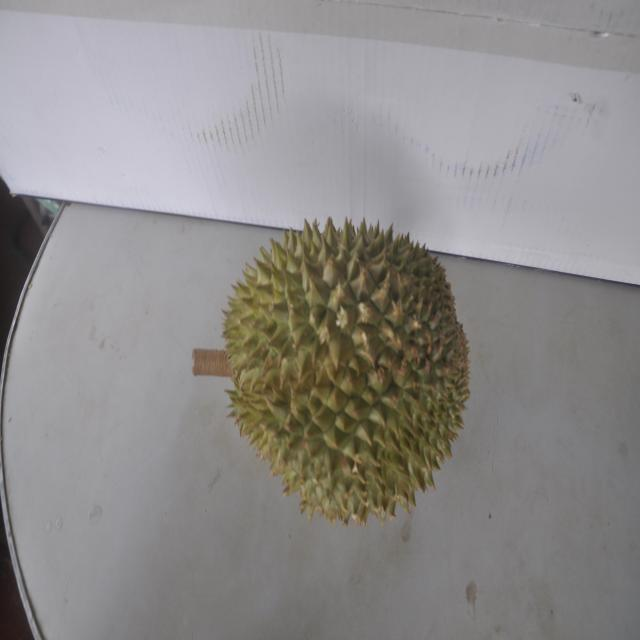mature: (213, 209, 466, 525)
